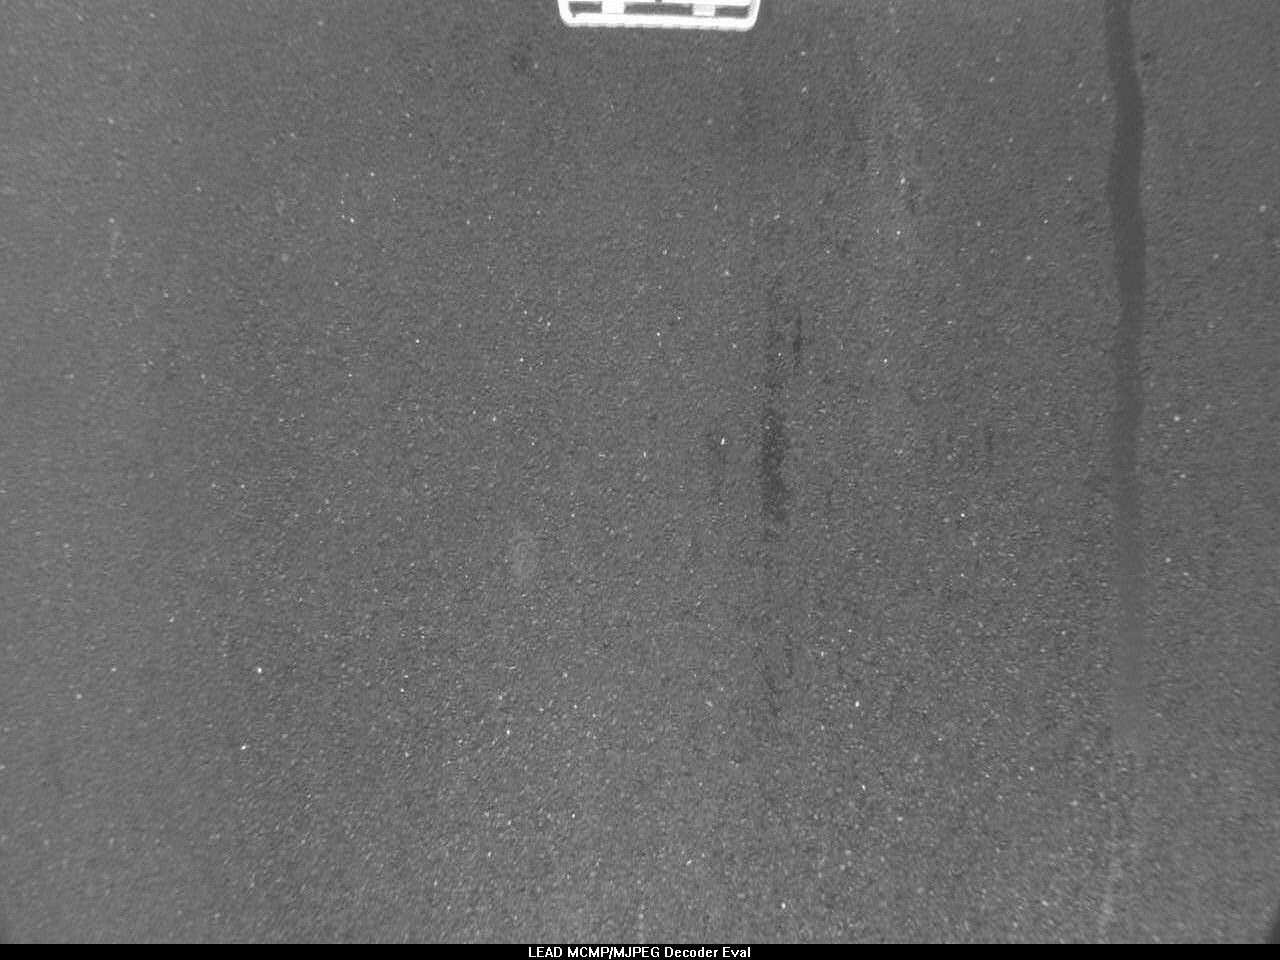sealed: (1093, 1, 1156, 348)
